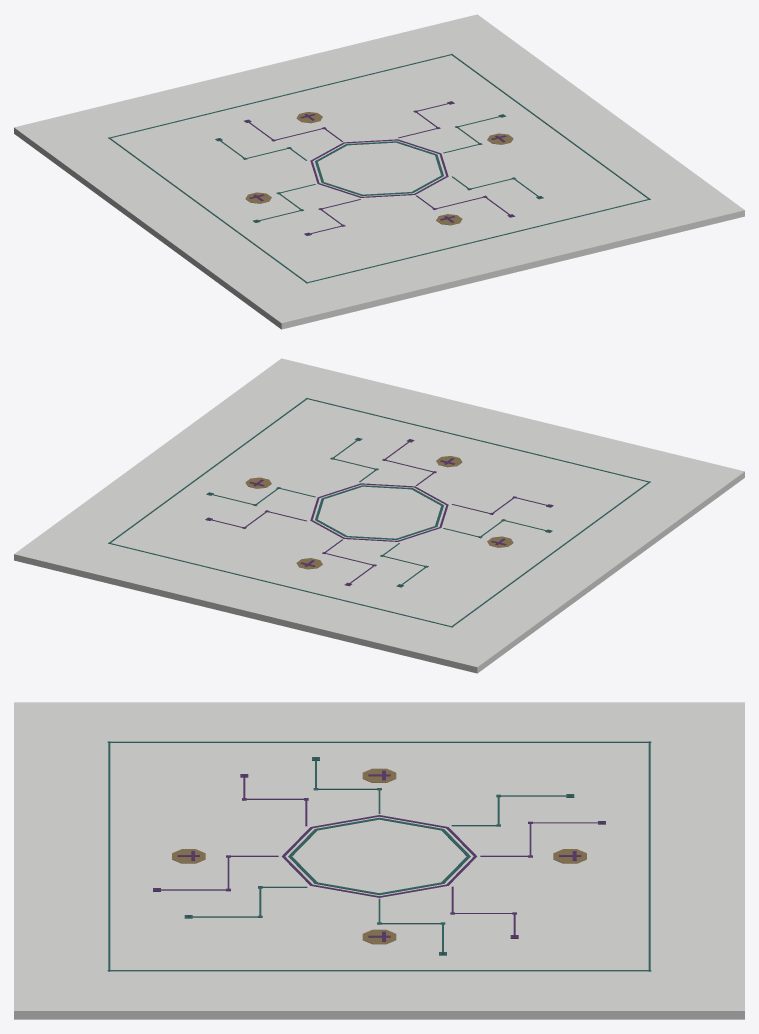
File: Floor.fbx
3 views of the same model, one above another, from view 1: azimuth 30°, elevation 25°; view 2: azimuth 150°, elevation 25°; view 3: azimuth 270°, elevation 25° (orthographic). The views are drawn at different scales.
Visible parts, largest first — view 1: SM_Floor; view 2: SM_Floor; view 3: SM_Floor.
Boxes of the visible parts, x1,y1,x2,y2 form: SM_Floor: (14, 14, 744, 329); SM_Floor: (14, 358, 744, 673); SM_Floor: (14, 702, 744, 1019).
Bounding box in the file's own units: 46 × 0.6575 × 46.
